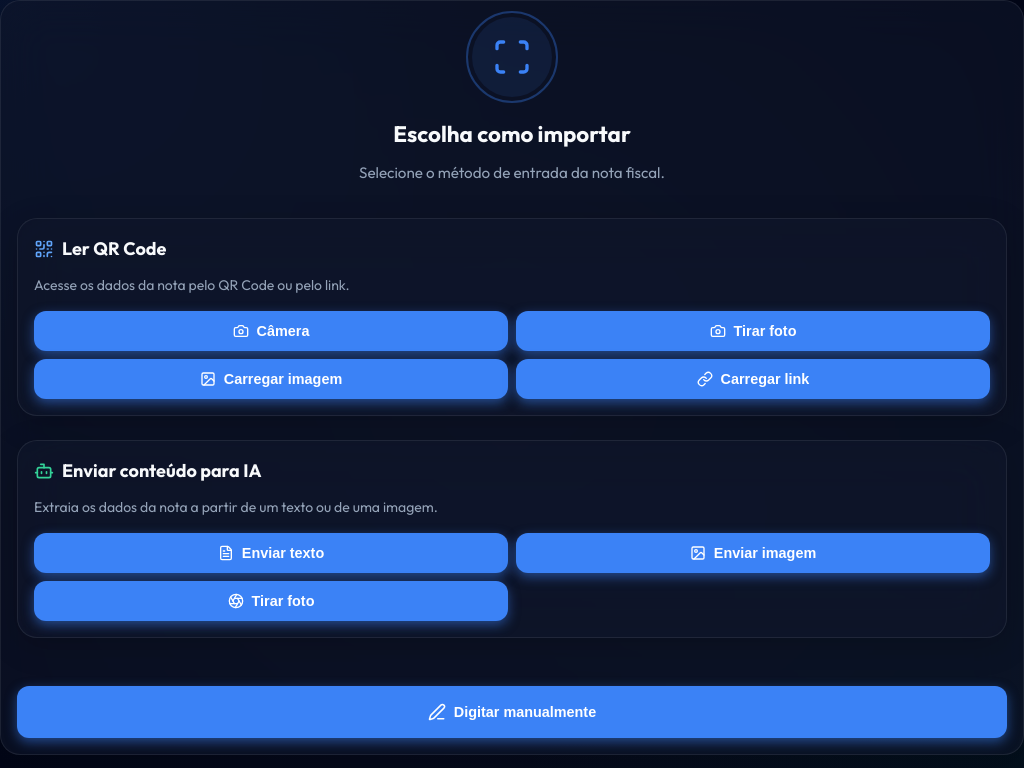
Test: IdleScreen › preserva o texto copiado na IA ao alternar para imagem e retornar
Note: Entra em Texto
Step 1. Click the button "Enviar texto" → x=271, y=552, box [34,532,508,572]
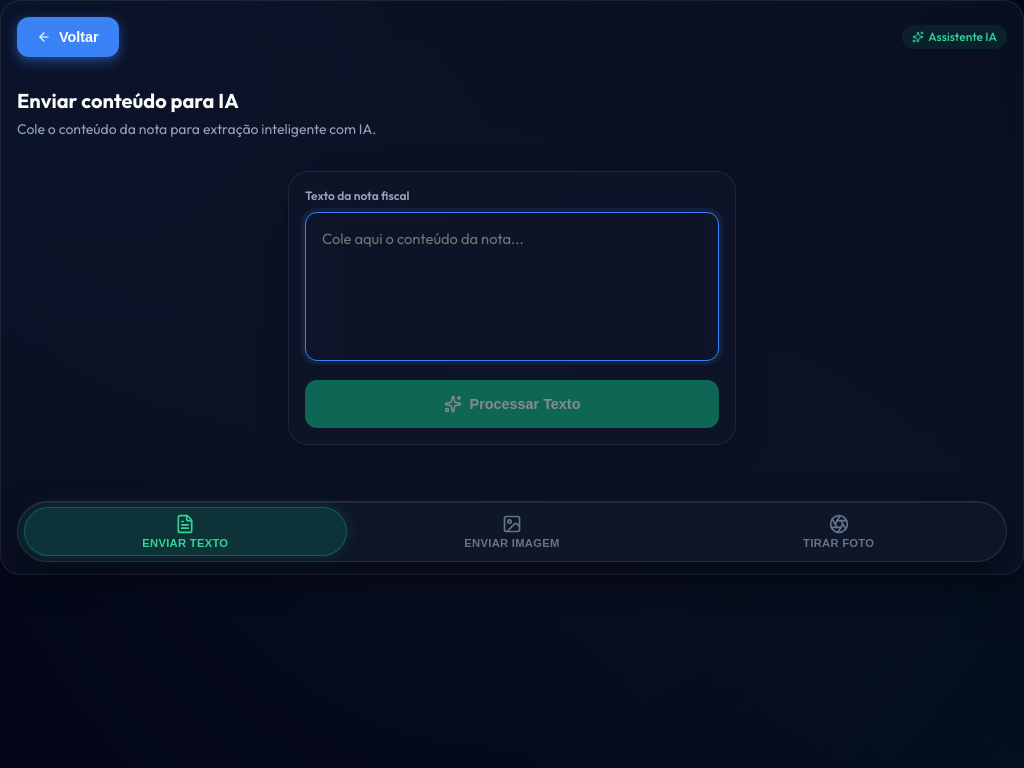
Step 2. Type "NOTA FISCAL DE TESTE" into the text box with placeholder "Cole aqui o conteúdo da nota..." → x=512, y=286, box [305,212,719,361]
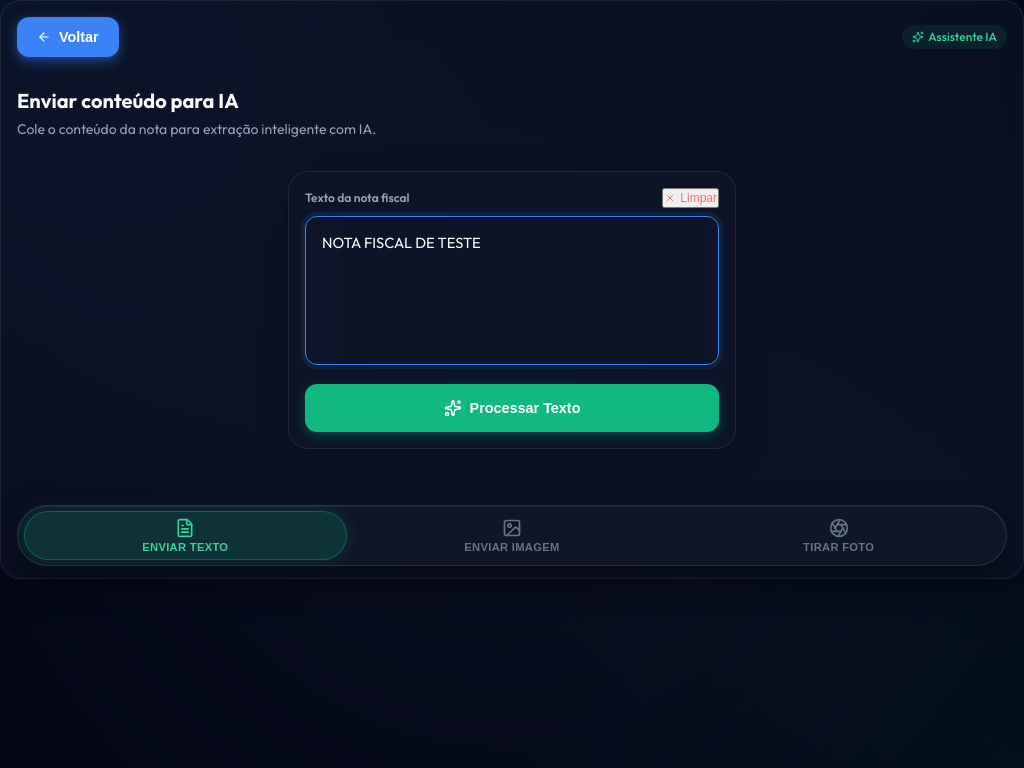
Note: Alterna para Imagem pelo menu inferior
Step 3. Click the tab with aria-label "Enviar imagem da nota para IA" → x=512, y=536, box [351,511,673,560]
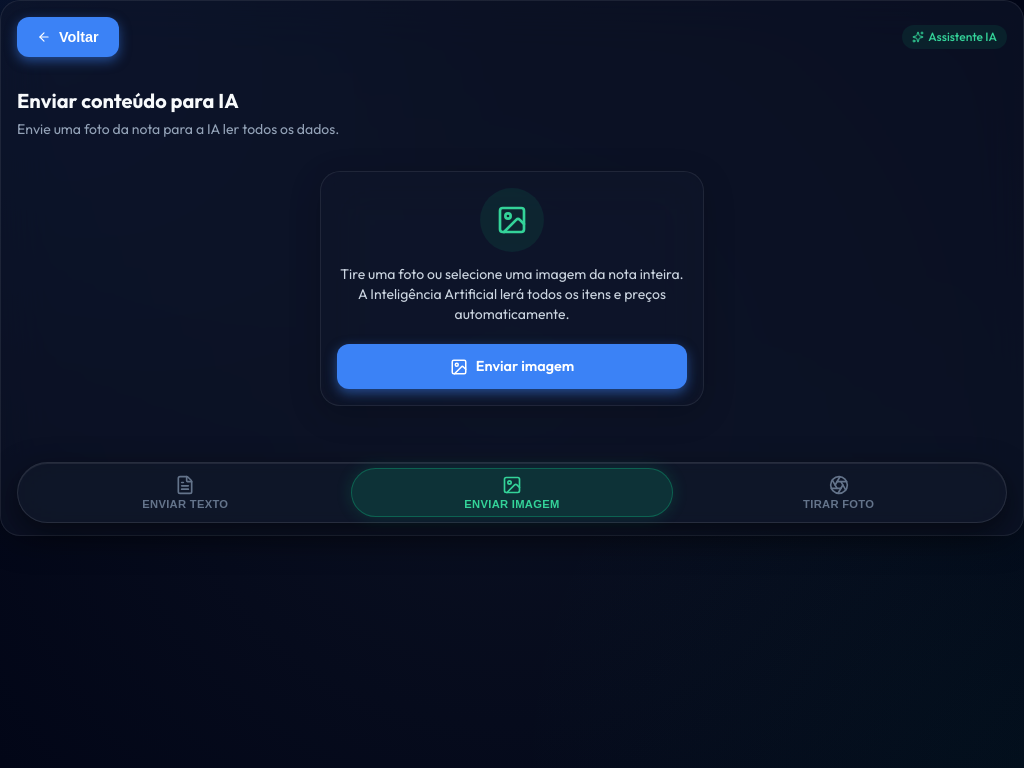
Expected: the text "Tire uma foto ou selecione uma imagem da nota inteira" is shown, [340,265,684,323]
Note: Retorna para Texto pelo menu inferior
Step 4. Click the tab with aria-label "Enviar texto copiado para IA" → x=185, y=493, box [24,468,347,517]
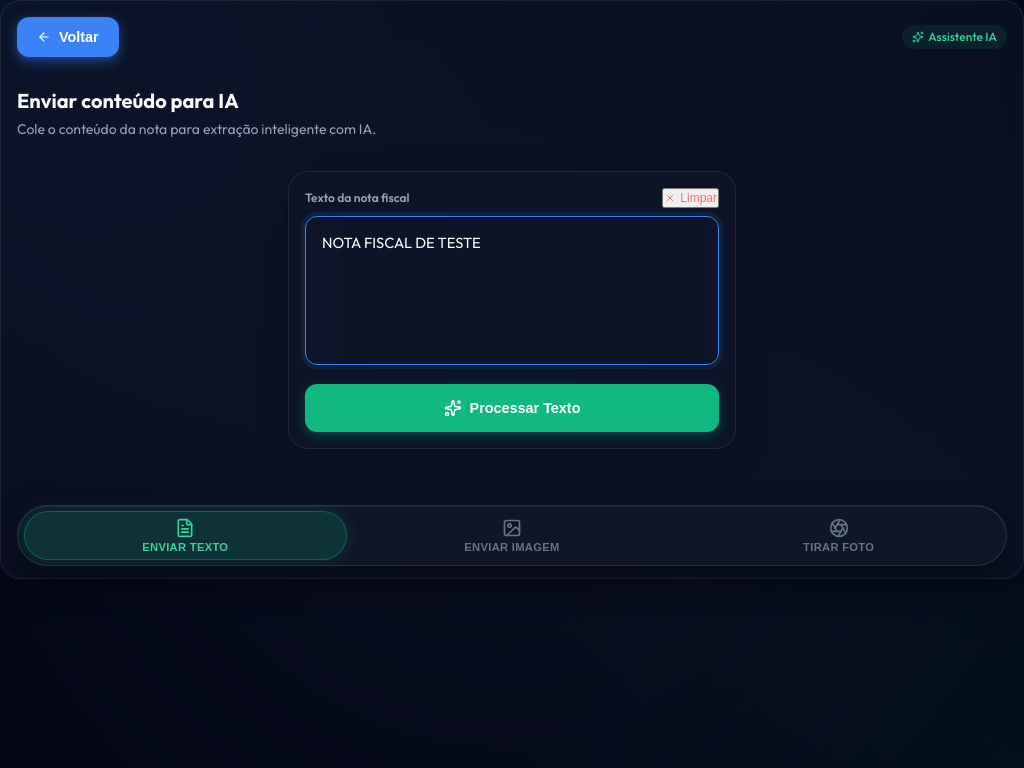
Expected: the text box with placeholder "Cole aqui o conteúdo da nota..." holds "NOTA FISCAL DE TESTE", [305,216,719,365]
